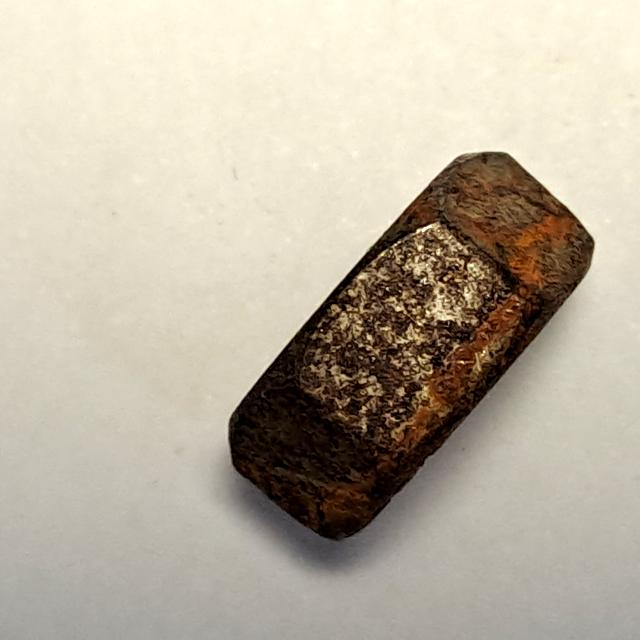Side_Rust: (207, 134, 614, 564)
